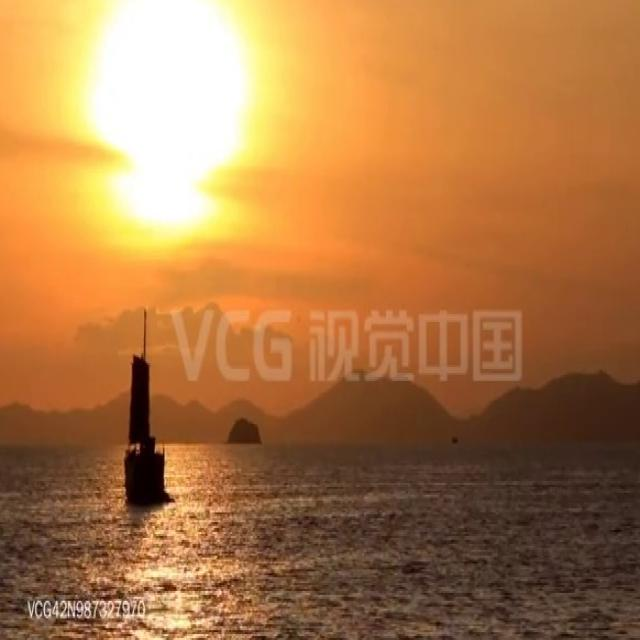sailboat: (120, 306, 159, 496)
